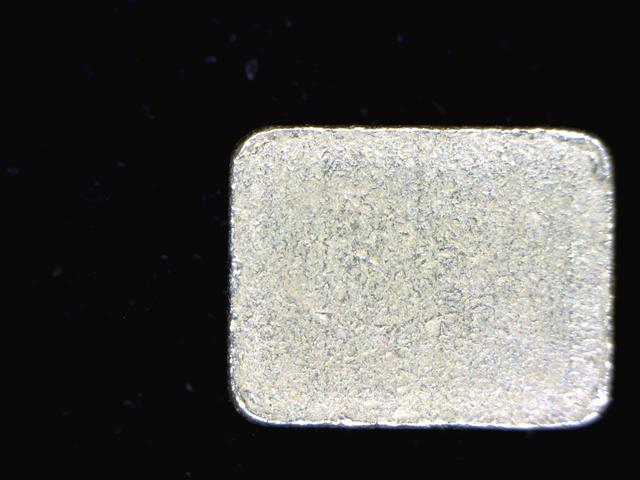ok: (219, 117, 617, 435)
